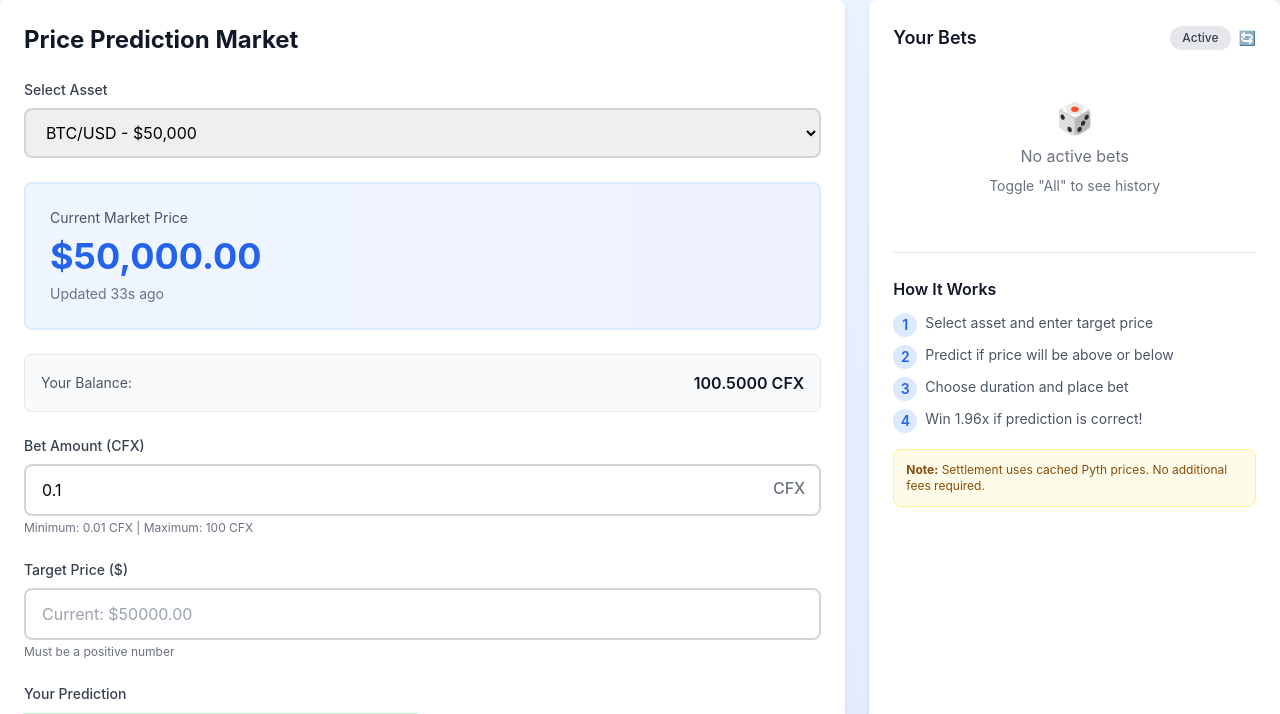
Test: BettingInterface Component › User Bets Display › shows "No bets found" when viewing all history with no bets
What coordinates should you click on to do the following:
click the button "Active"
I would click on:
 (1200, 38)
Its box is [1170, 26, 1230, 50].
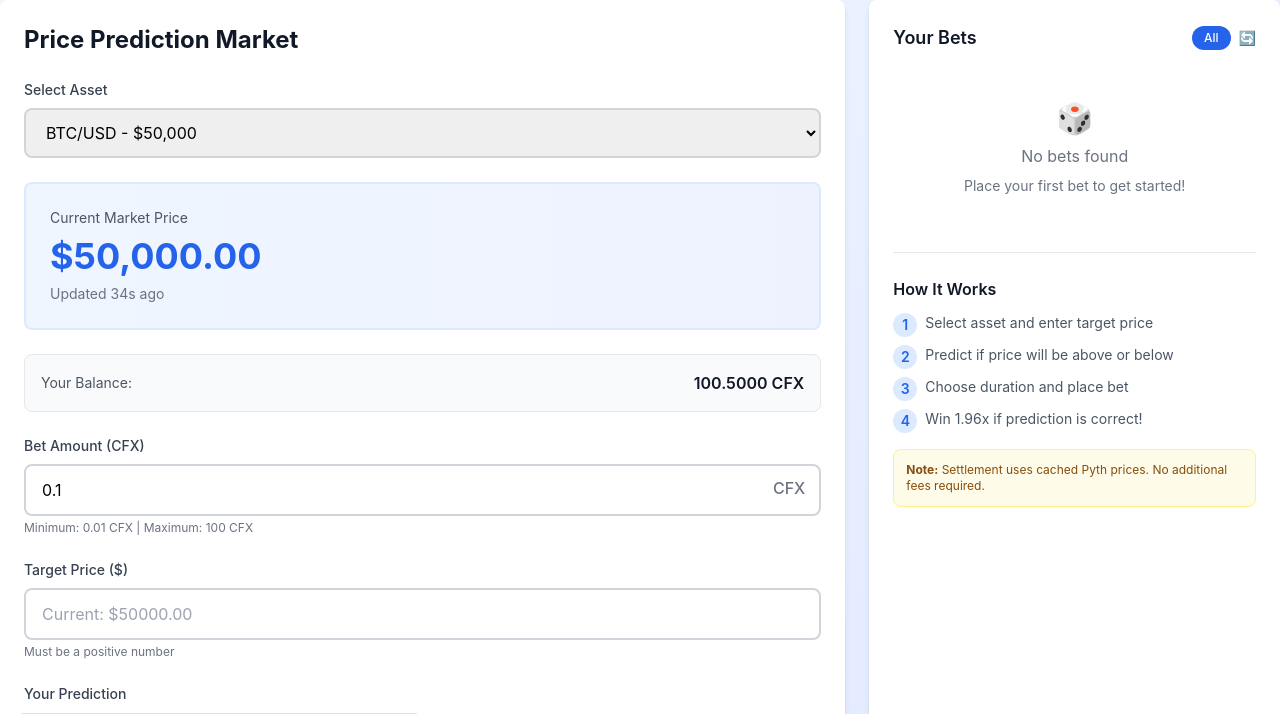
Result: the text "No bets found" is shown at [1021, 146, 1128, 166]
